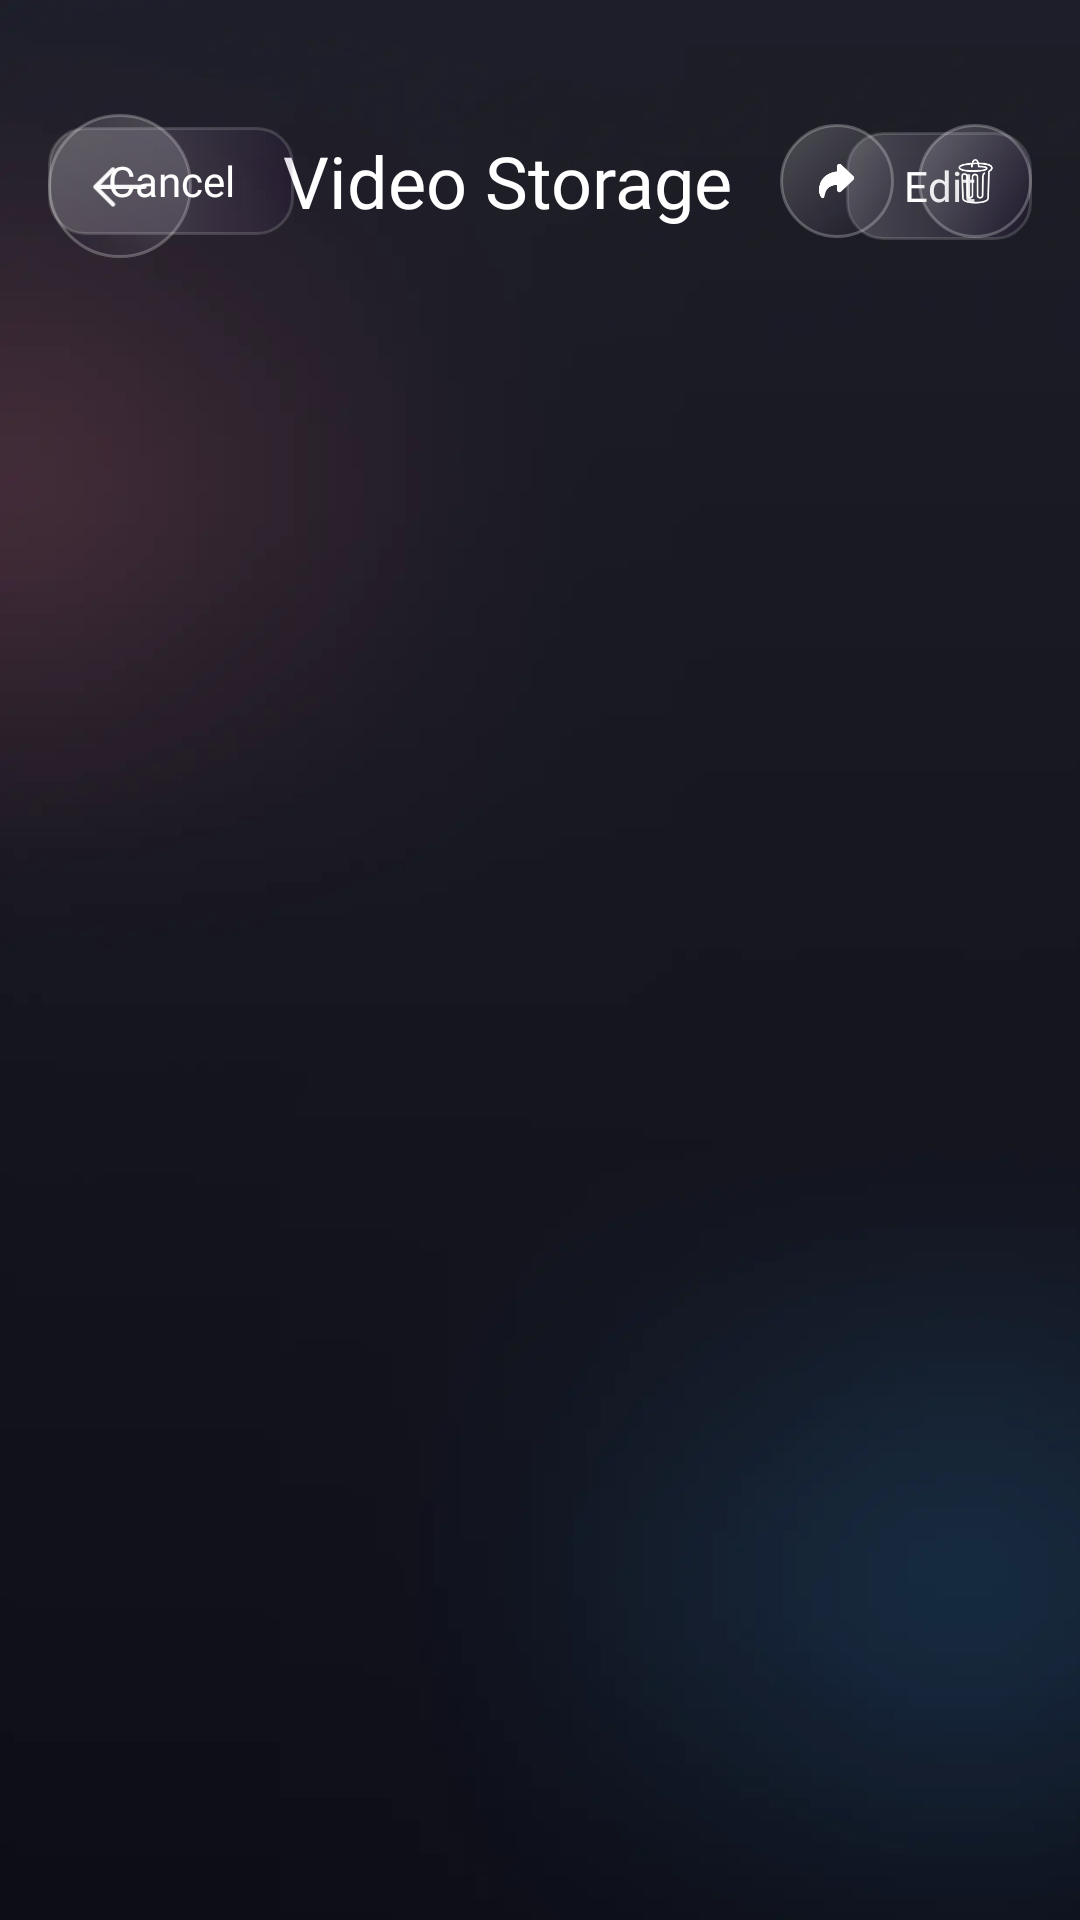

Named icons in this screenshot (1080x1920) and their centers, (x,y):
share: (837,181)
